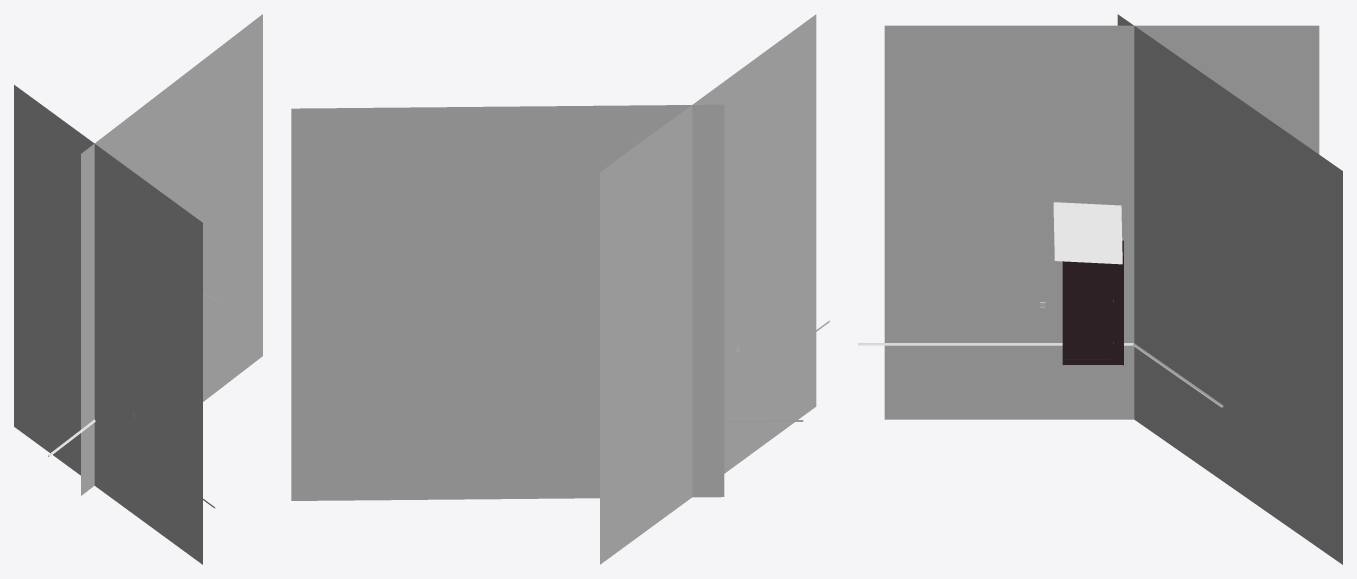
File: Cupboard.fbx
The picture shows the model from 3 angles, left to right: view 1: azimuth 30°, elevation 25°; view 2: azimuth 150°, elevation 25°; view 3: azimuth 270°, elevation 25°; orthographic projection. The views are drawn at different scales.
Parts seen in each view (by area): view 1: Plane.008, Plane.010; view 2: Plane.010, Plane.008; view 3: Plane.008, Plane.010, Plane.009, Plane.002, Plane.001, Cube, Plane.000, Cube.001.
Boxes of the visible parts, x1,y1,x2,y2 form: Plane.008: (14,85,202,564); Plane.010: (81,14,262,495); Plane.010: (291,104,724,500); Plane.008: (600,14,816,564); Plane.008: (884,25,1319,419); Plane.010: (1117,14,1342,564); Plane.009: (1053,202,1122,264); Plane.002: (1087,262,1111,359); Plane.001: (1063,261,1087,359); Cube: (1062,240,1123,365); Plane.000: (1112,258,1122,325); Cube.001: (858,343,1133,345).
Size of what is drawn, in the model's own units: 1800 by 1780 by 1986.
